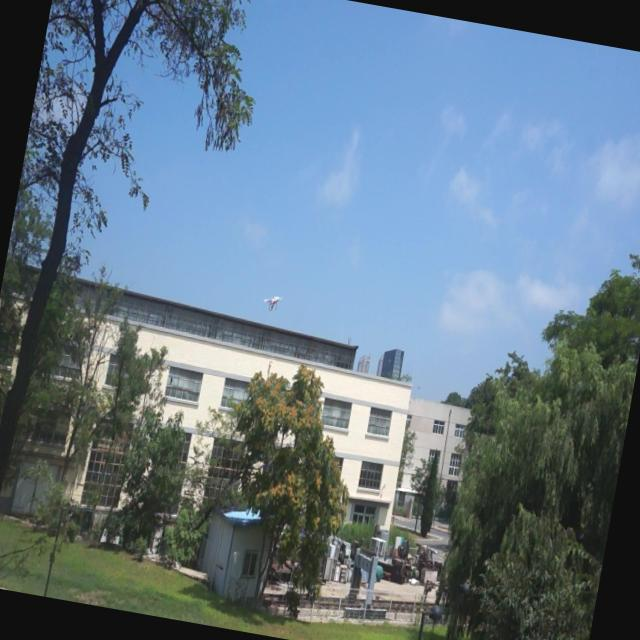drone: (260, 290, 282, 316)
